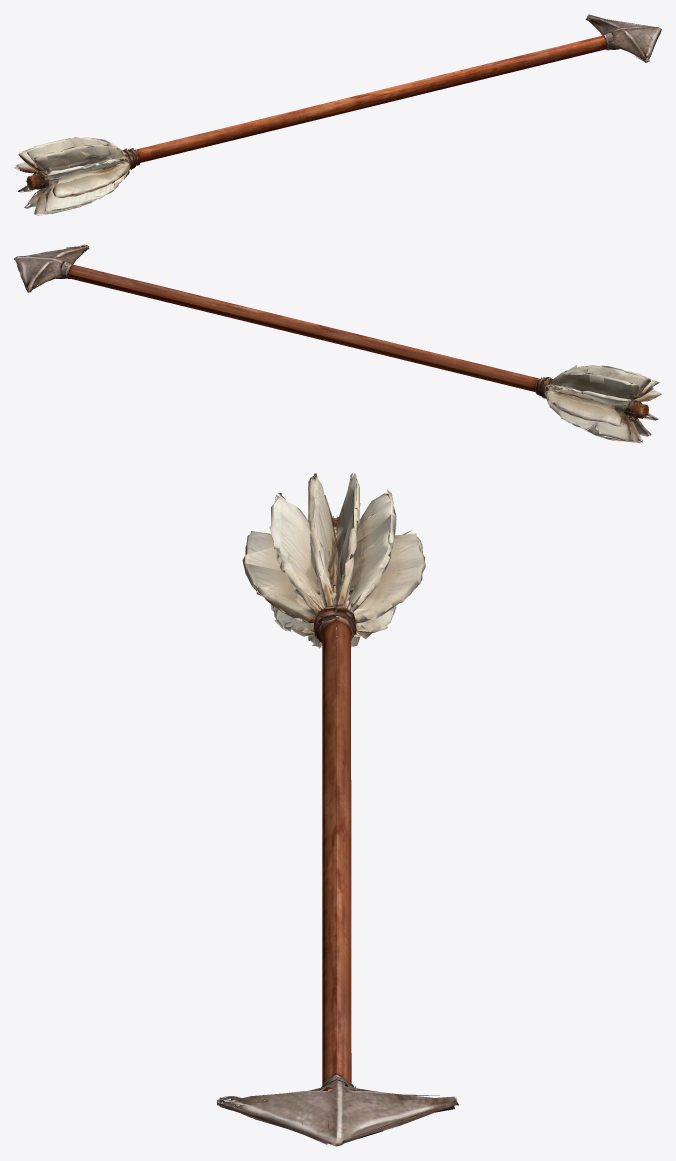
The model's file is muiten.glb.
3 renders of one model, top to bottom at view 1: azimuth 30°, elevation 25°; view 2: azimuth 150°, elevation 25°; view 3: azimuth 270°, elevation 25°, orthographic. The views are drawn at different scales.
Visible parts, largest first — view 1: tripo_node_20e82eab-cc80-4c25-af61-1e63ecc2a04f.1000; view 2: tripo_node_20e82eab-cc80-4c25-af61-1e63ecc2a04f.1000; view 3: tripo_node_20e82eab-cc80-4c25-af61-1e63ecc2a04f.1000.
Part boxes in pixels (x1=…): tripo_node_20e82eab-cc80-4c25-af61-1e63ecc2a04f.1000: x1=14, y1=14, x2=661, y2=215; tripo_node_20e82eab-cc80-4c25-af61-1e63ecc2a04f.1000: x1=14, y1=244, x2=661, y2=443; tripo_node_20e82eab-cc80-4c25-af61-1e63ecc2a04f.1000: x1=217, y1=473, x2=458, y2=1146.
Bounding box in the file's own units: 0.9812 × 0.0915 × 0.1626.
Materials: 1 (1 with a texture image).
